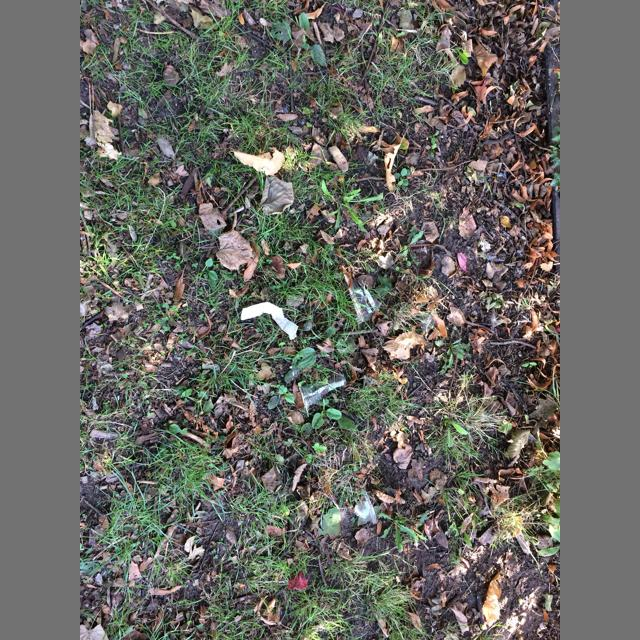litter: (241, 302, 298, 340), (299, 373, 346, 417), (343, 273, 382, 324), (354, 494, 376, 523)
